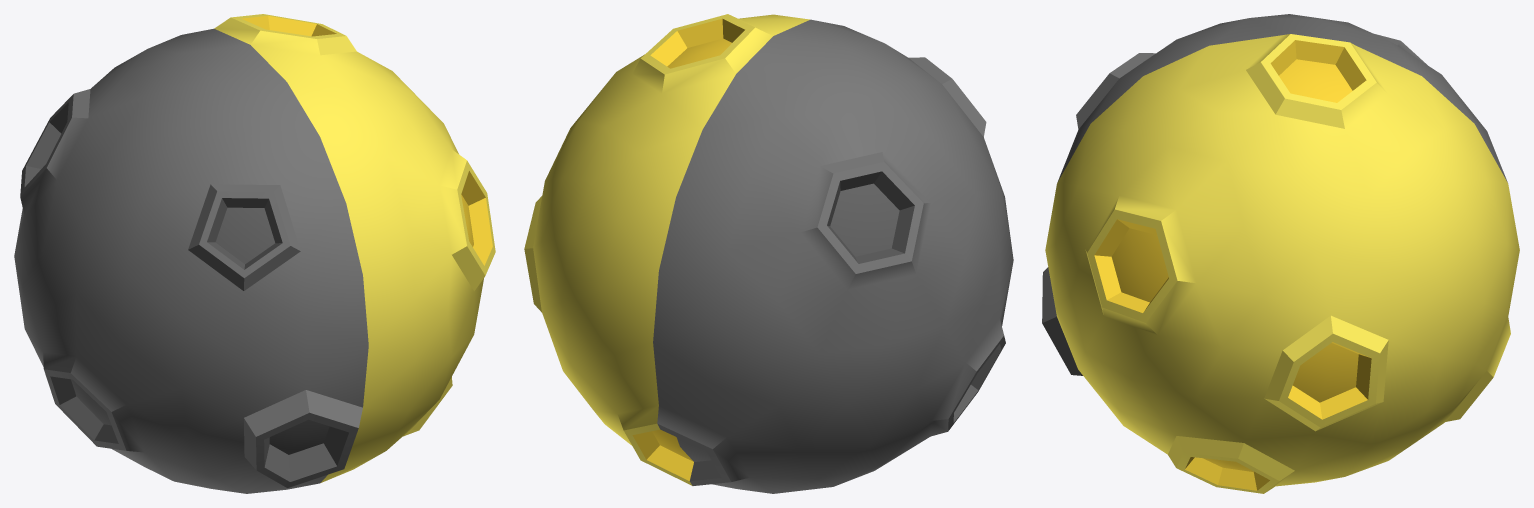
The model's file is first_quarter_moon.fbx.
The picture shows the model from 3 angles, left to right: view 1: azimuth 30°, elevation 25°; view 2: azimuth 150°, elevation 25°; view 3: azimuth 270°, elevation 25°; orthographic projection.
Visible parts, largest first — view 1: Icosphere.002; view 2: Icosphere.002; view 3: Icosphere.002.
Boxes of the visible parts, <box> form: Icosphere.002: <box>14,14,495,493</box>; Icosphere.002: <box>524,14,1013,493</box>; Icosphere.002: <box>1042,14,1519,493</box>.
Bounding box in the file's own units: 204 × 204 × 201.
1 material, 1 textured.
